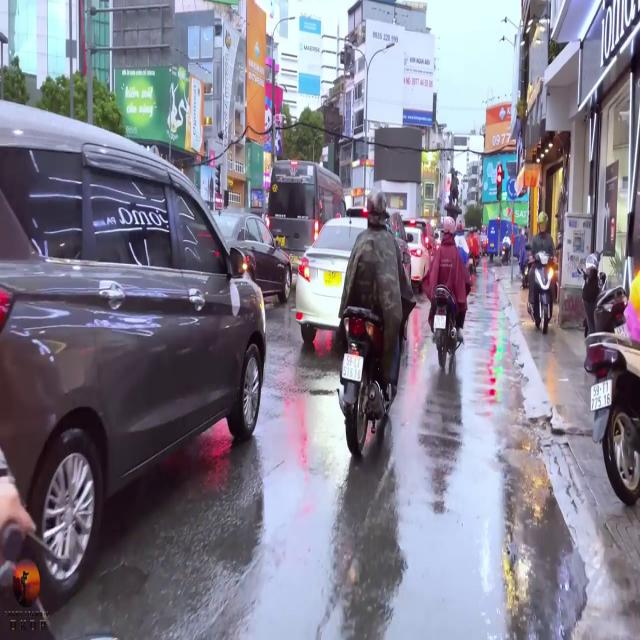bien_trang: (589, 381, 612, 420), (341, 349, 362, 386)
bien_vang: (322, 267, 344, 291)
